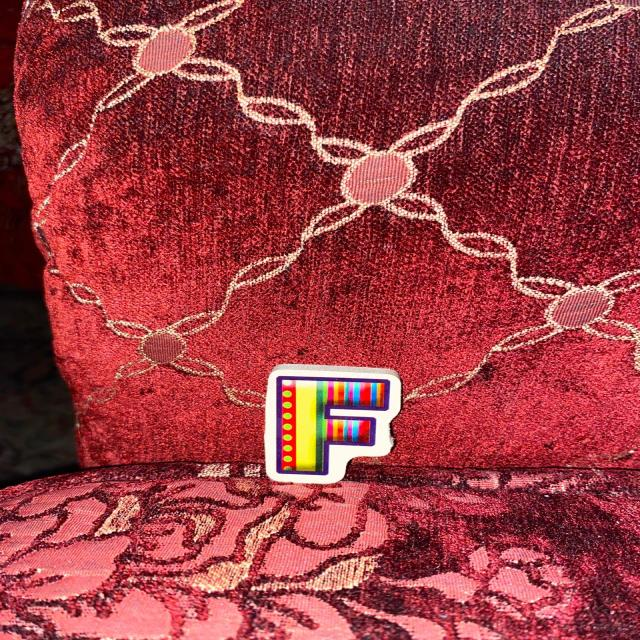F: (265, 364, 400, 483)
